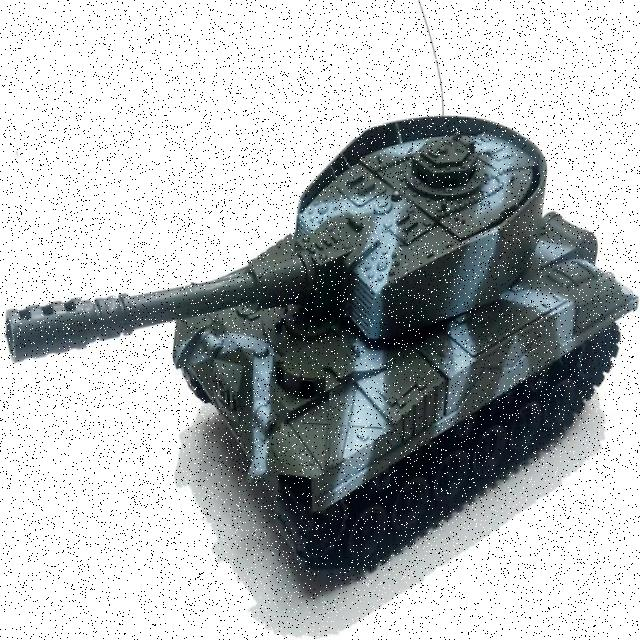MIL_MBT: (5, 113, 633, 578)
